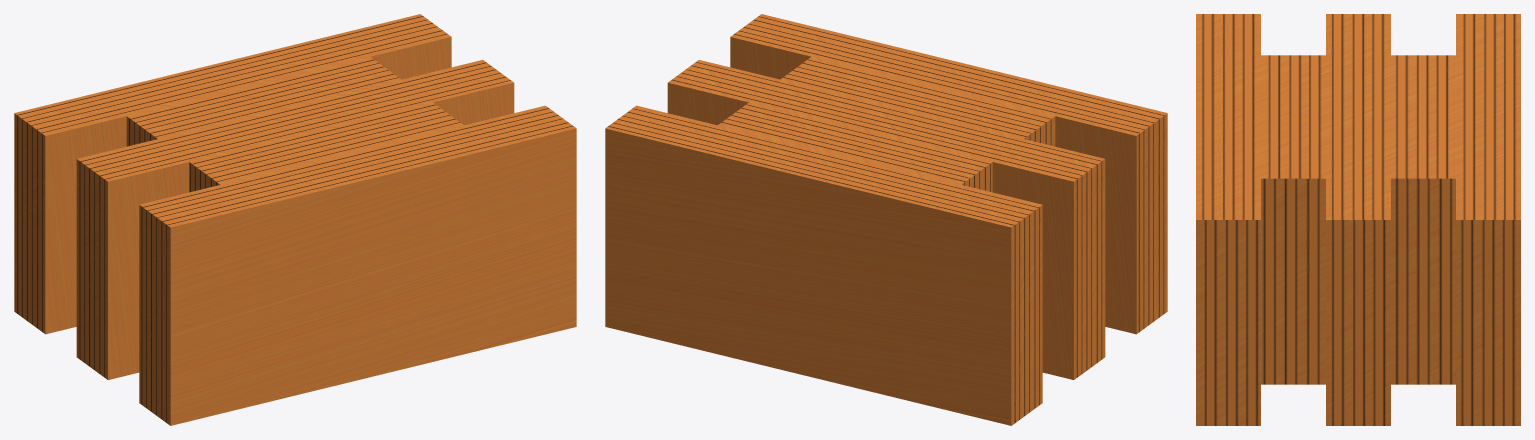
Rendered from Norris_Maze_Heat_Sink.fbx.
3 views of the same model, side by side, from view 1: azimuth 30°, elevation 25°; view 2: azimuth 150°, elevation 25°; view 3: azimuth 270°, elevation 25° (orthographic). The views are drawn at different scales.
Parts seen in each view (by area): view 1: HeatSink; view 2: HeatSink; view 3: HeatSink.
Part boxes in pixels (bbox=[...]): HeatSink: bbox=[14, 14, 576, 425]; HeatSink: bbox=[605, 14, 1167, 425]; HeatSink: bbox=[1196, 14, 1520, 425].
Size of the model in its own units: 6.25 by 2.92 by 4.17.
